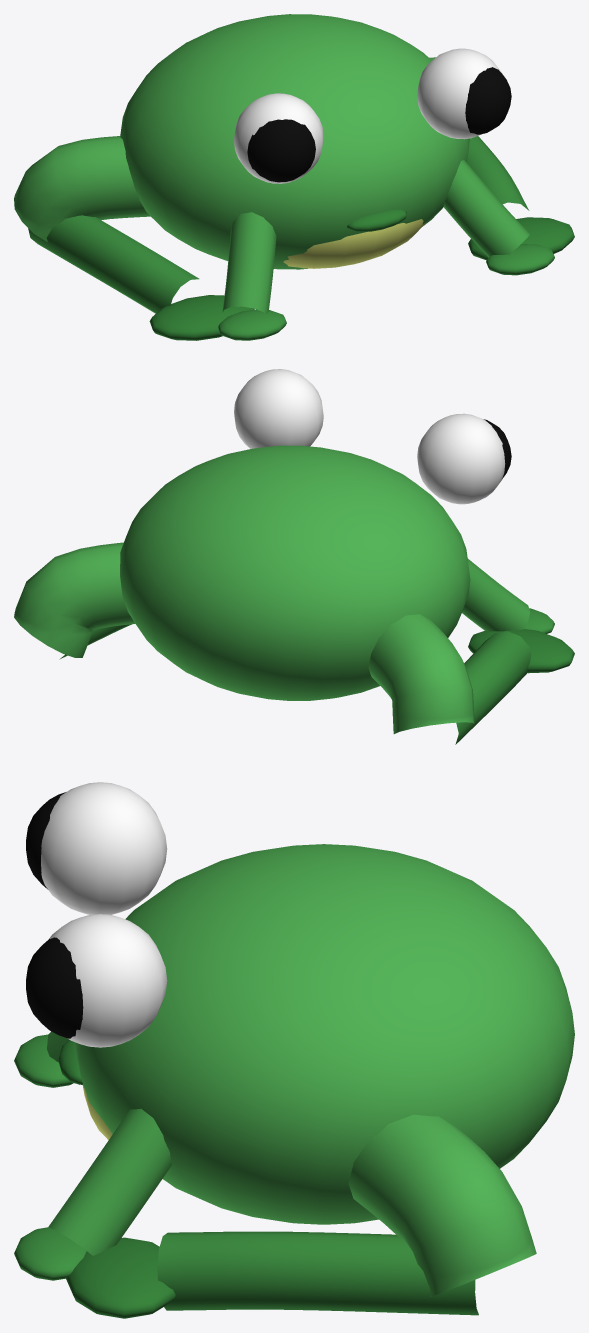
The model's file is katak.glb.
The picture shows the model from 3 angles, top to bottom: view 1: azimuth 30°, elevation 25°; view 2: azimuth 150°, elevation 25°; view 3: azimuth 270°, elevation 25°; orthographic projection. The views are drawn at different scales.
Size of the model in its own units: 1.08 by 0.5234 by 0.787.
